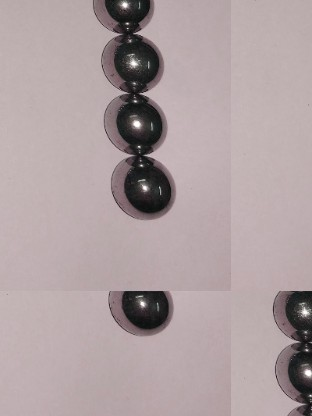ironball: (91, 95, 177, 157), (106, 154, 180, 223), (90, 30, 170, 92), (101, 291, 175, 337), (257, 286, 310, 341), (264, 341, 310, 402), (88, 0, 163, 36), (281, 399, 310, 414)
